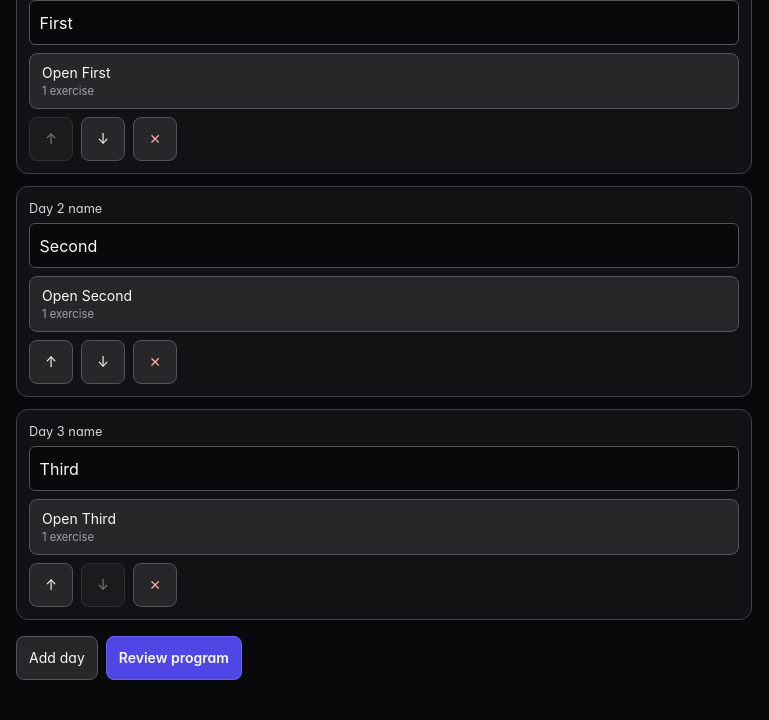
Scenario: recovers malformed nested rows independently while preserving valid quick-add values
(page scrolled)
Click the button "Review program" at point(174, 658), box [106,636,242,680]
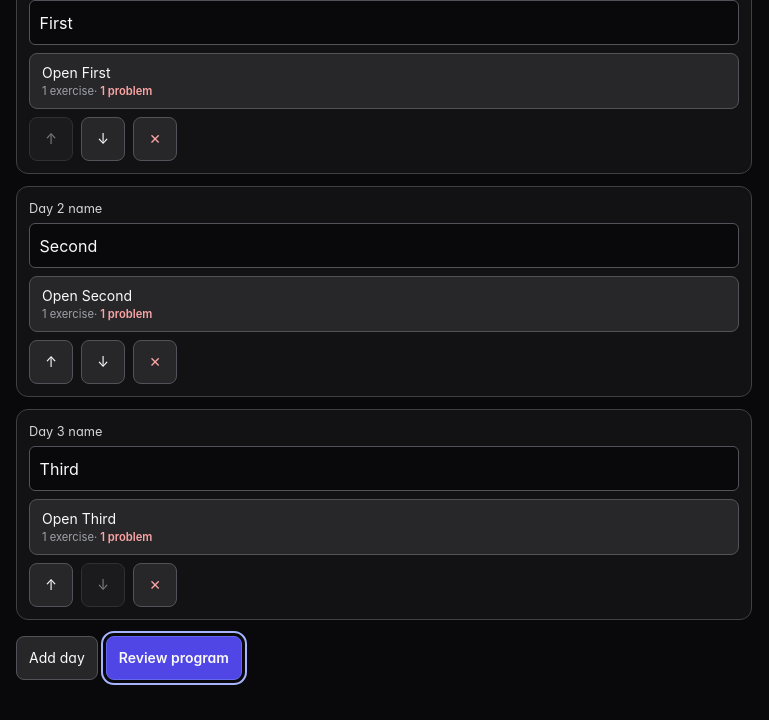
Click the button "Open Third 1 exercise· 1 problem" at point(79, 519), box [29,499,739,555]
(page scrolled)
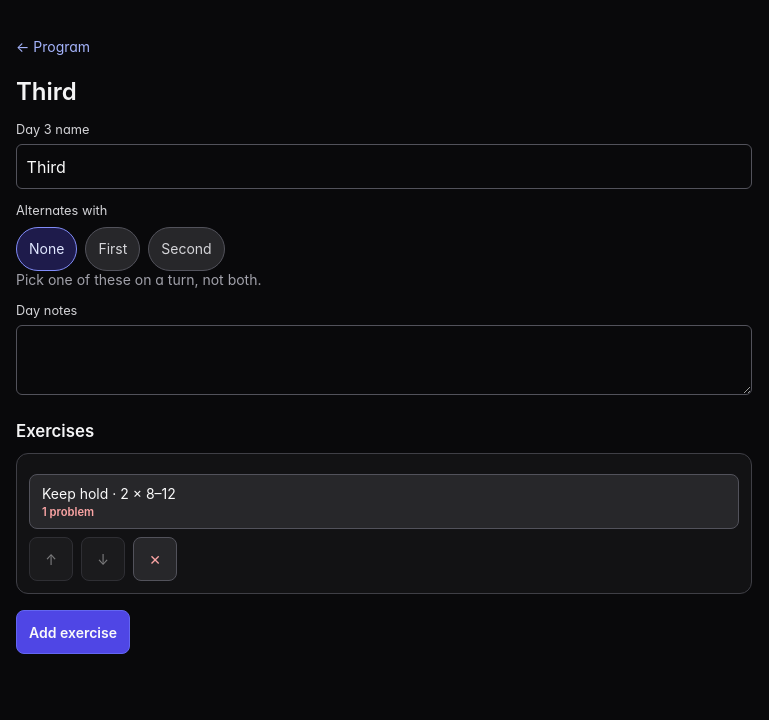
Click the button "Keep hold · 2 × 8–12 1 problem" at point(109, 493), box [29,474,739,529]
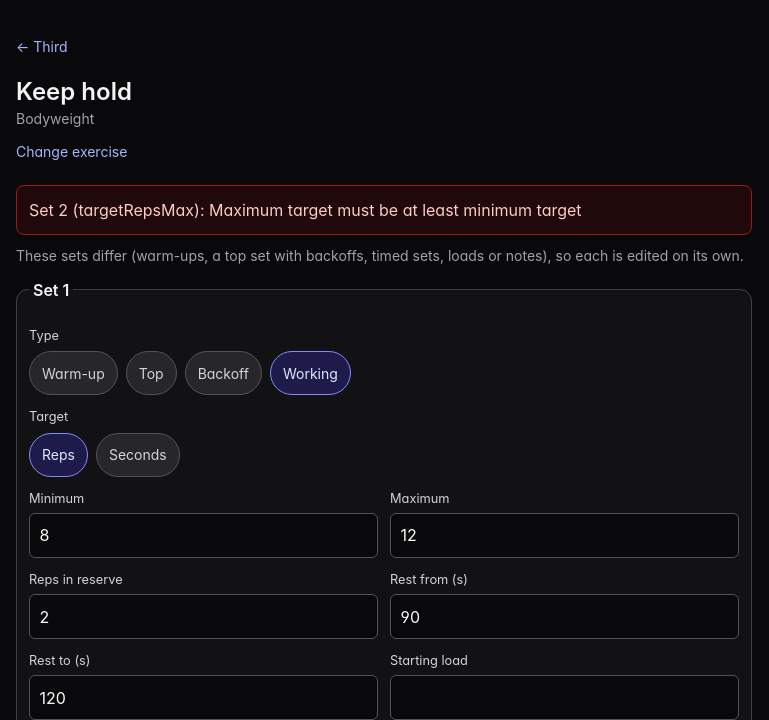
Result: the message shows "Maximum target must be at least minimum target" at [29,200,582,220]
